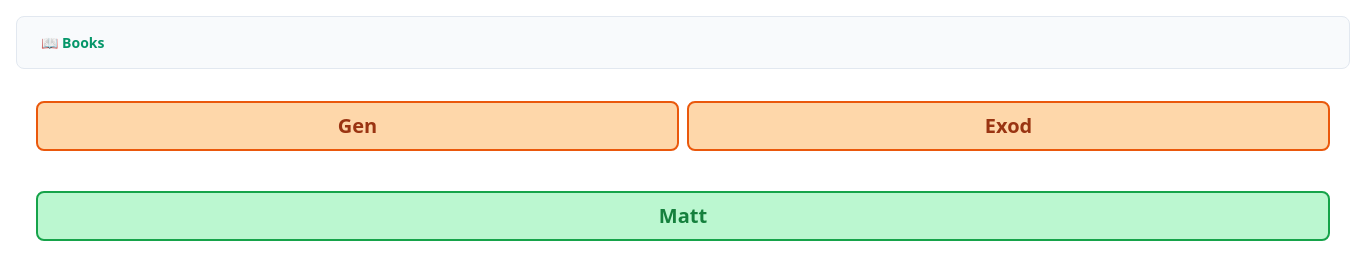
Scenario: Navigation › Book Selection Flow › navigates to chapter selection when book is clicked
Click the button "Gen": click(358, 126) [36,100,679,150]
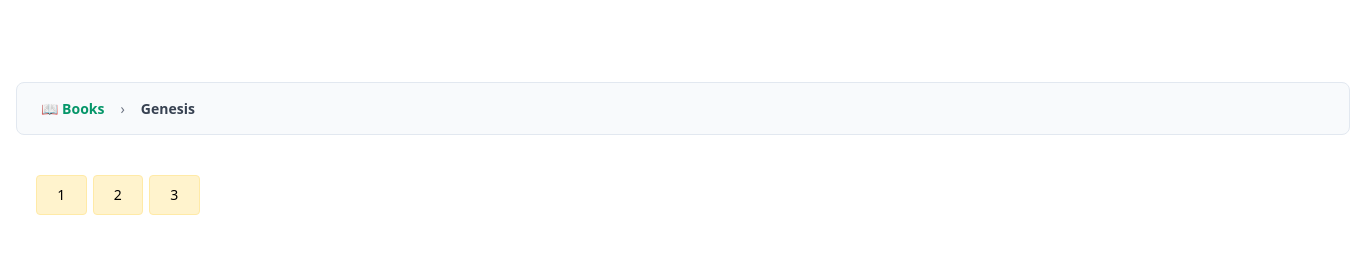
Expected: the button "1" is shown, [36,174,86,214]
Expected: the button "2" is shown, [92,174,143,214]
Expected: the button "3" is shown, [149,174,200,214]
